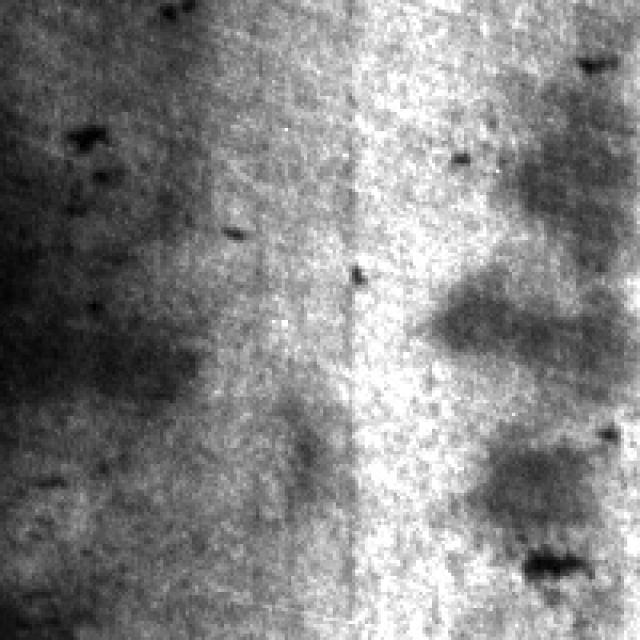patches: (7, 70, 215, 426), (509, 38, 640, 282), (435, 269, 637, 400), (451, 416, 611, 557)
